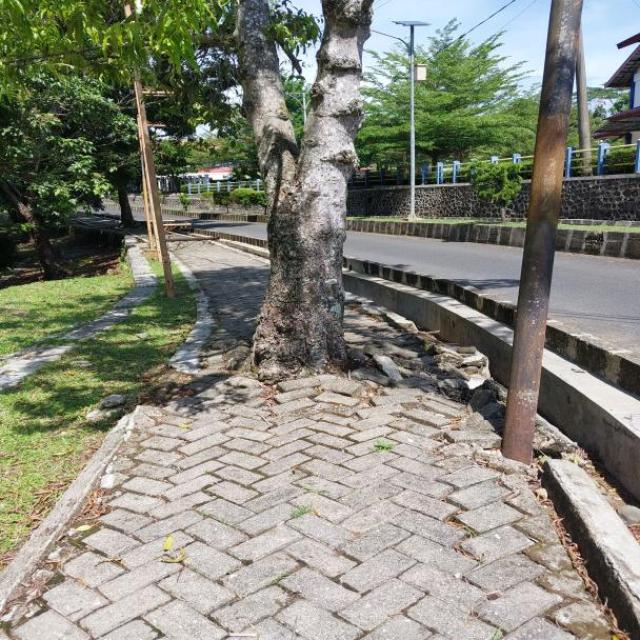tree ahead at: (219, 0, 384, 370)
